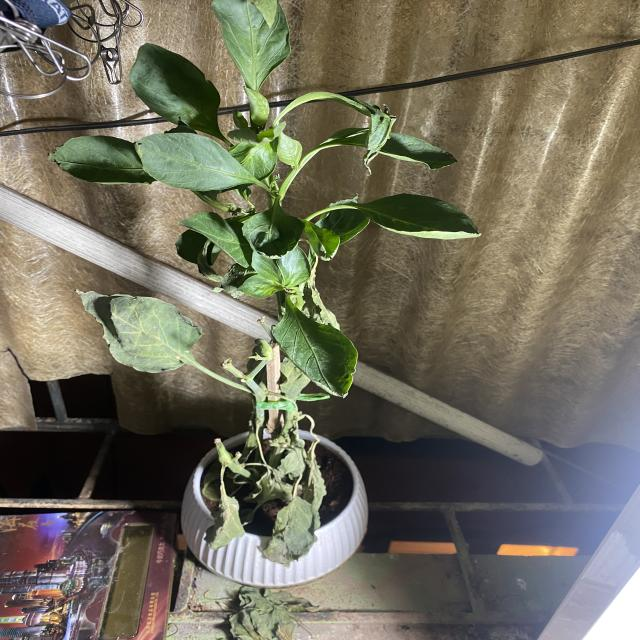Leaf: (75, 290, 205, 374), (127, 43, 222, 131), (134, 129, 255, 193), (270, 312, 357, 397), (210, 2, 292, 86), (363, 193, 483, 240), (241, 209, 305, 260)
